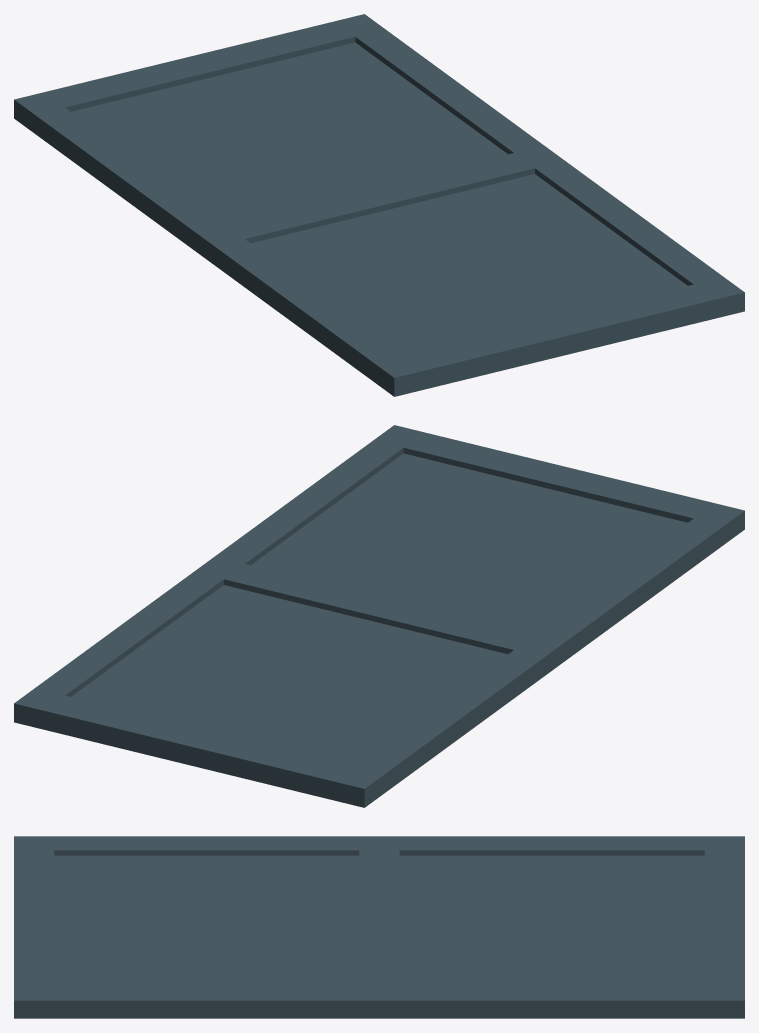
The model's file is door.leaf.1m2.obj.
The picture shows the model from 3 angles, top to bottom: view 1: azimuth 30°, elevation 25°; view 2: azimuth 150°, elevation 25°; view 3: azimuth 270°, elevation 25°; orthographic projection. The views are drawn at different scales.
Parts seen in each view (by area): view 1: door.leaf.1m2; view 2: door.leaf.1m2; view 3: door.leaf.1m2.
Boxes of the visible parts, x1,y1,x2,y2 form: door.leaf.1m2: [14, 14, 744, 396]; door.leaf.1m2: [14, 425, 744, 807]; door.leaf.1m2: [14, 836, 744, 1018].
Bounding box in the file's own units: 1.16 × 0.06 × 2.18.
